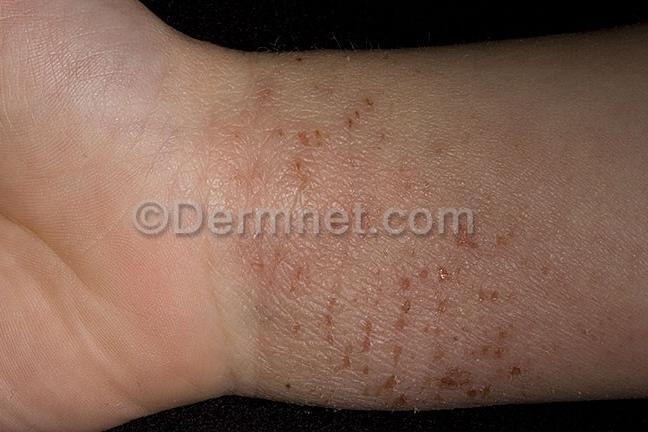edema 1: (239, 136, 602, 412)
eritema 1: (296, 288, 648, 395)
exudacion 1: (231, 84, 522, 419)
